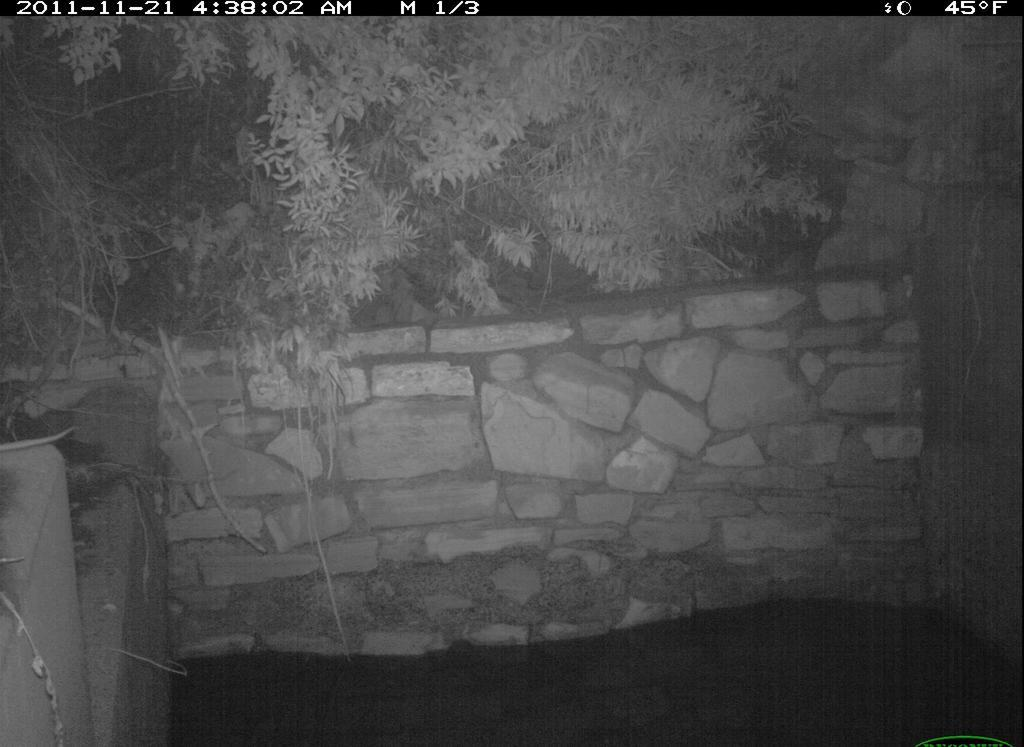rodent: (2, 417, 80, 458)
